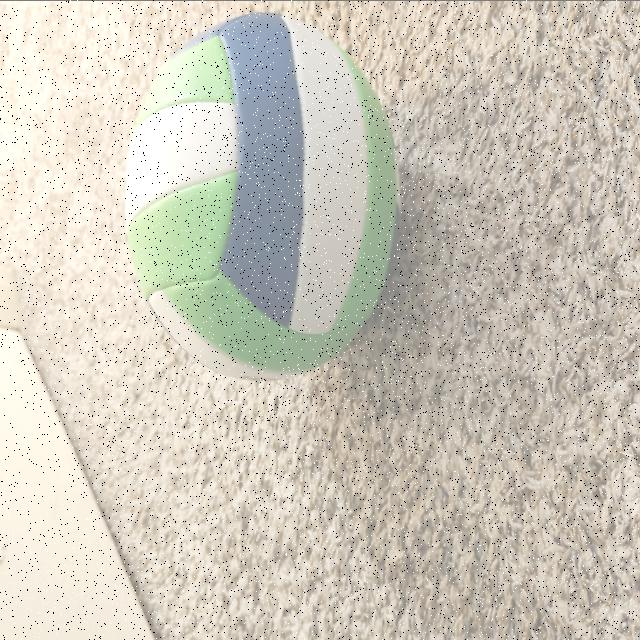ball: (120, 3, 398, 379)
